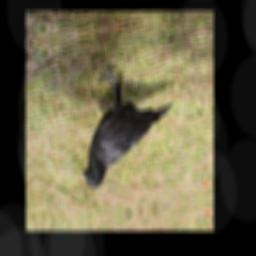Crow: (76, 50, 181, 191)
